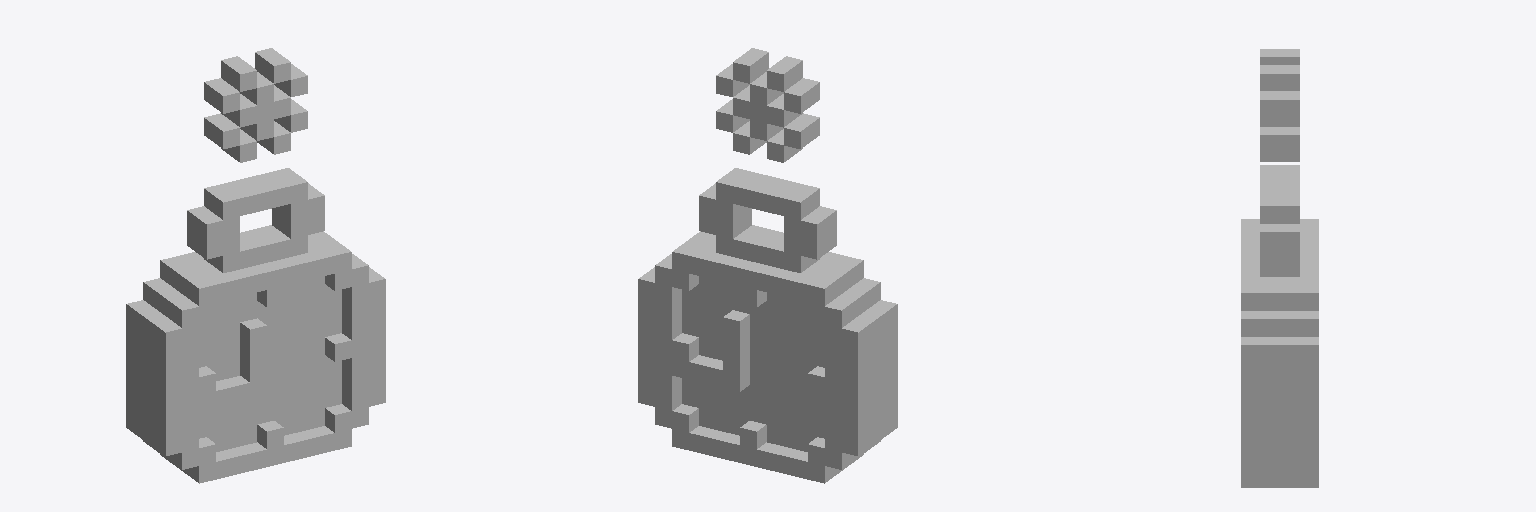
Rendered from Stopwatch Freeze 3.obj.
3 renders of one model, left to right at view 1: azimuth 30°, elevation 25°; view 2: azimuth 150°, elevation 25°; view 3: azimuth 270°, elevation 25°, orthographic.
Parts seen in each view (by area): view 1: object 1; view 2: object 1; view 3: object 1.
Part boxes in pixels (x1,y1,x2,y2): object 1: (126, 48, 385, 483); object 1: (638, 48, 897, 483); object 1: (1241, 49, 1318, 487).
Bounding box in the file's own units: 1.3 × 2.2 × 0.4.